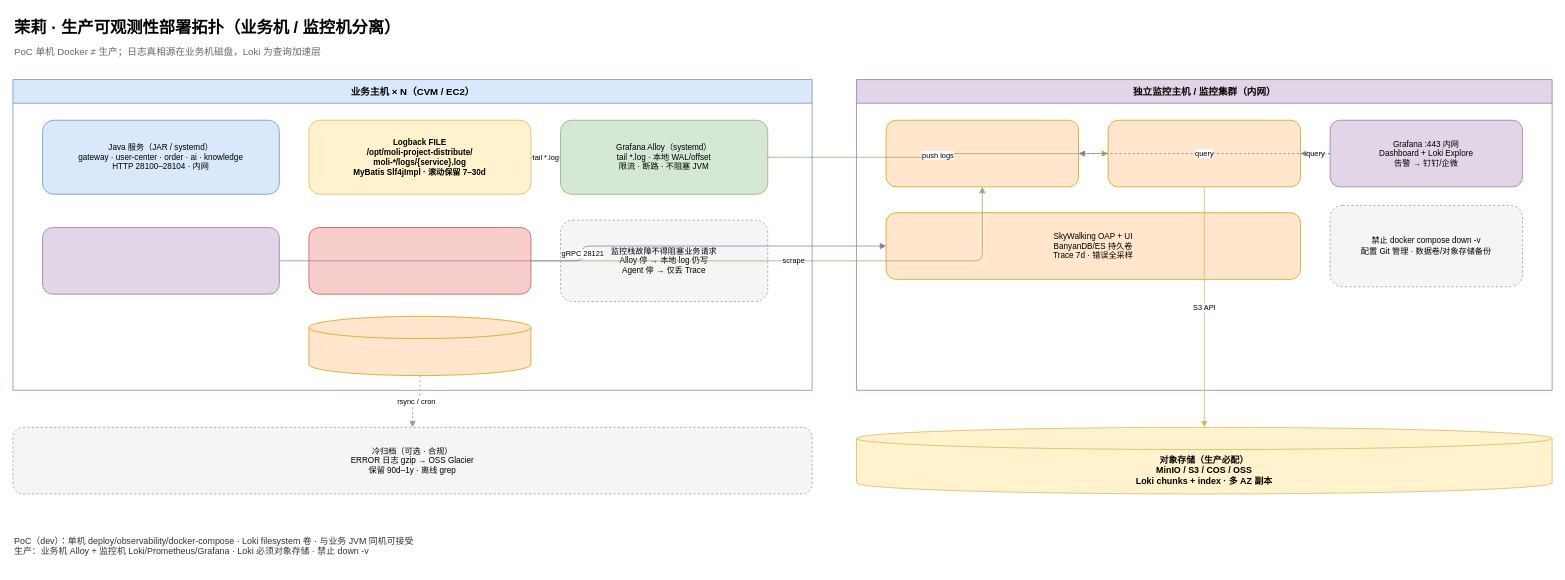
Image size: 1565x580. Some labels were removed from this diagram. Here are the shapes that lost their labels. From the top down, the centre of each, then its label:
(x=982, y=153): Prometheus scrape 281xx /actuator 保留 15–30d TSDB
(x=1204, y=153): Loki ingest + query chunk → 对象存储
(x=160, y=260): SkyWalking Java Agent（可选） -javaagent · OAP gRPC 28121 Trace 采样 10–20% prod
(x=419, y=260): /actuator/prometheus 仅管理网 / 防火墙白名单 不经 Gateway 暴露
(x=419, y=346): 本地磁盘（真相源） logrotate / logback rolling
